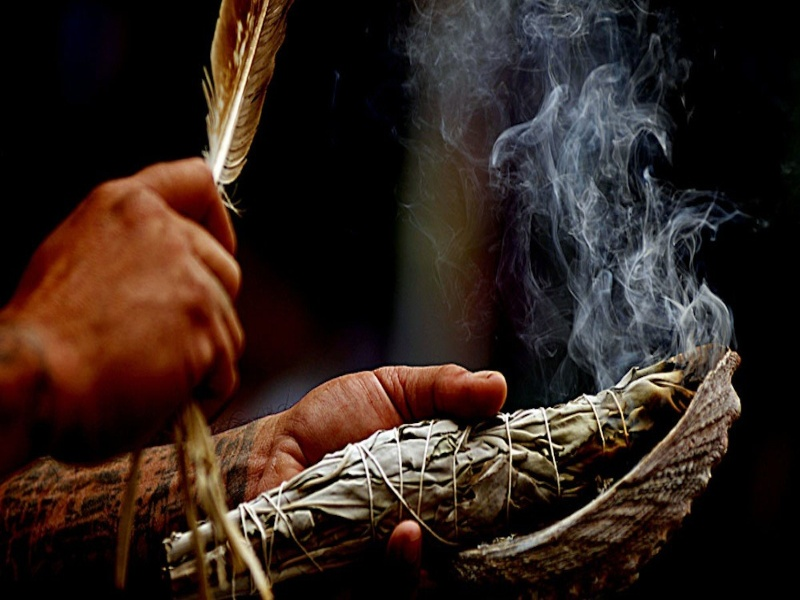smoke: (432, 2, 736, 361)
